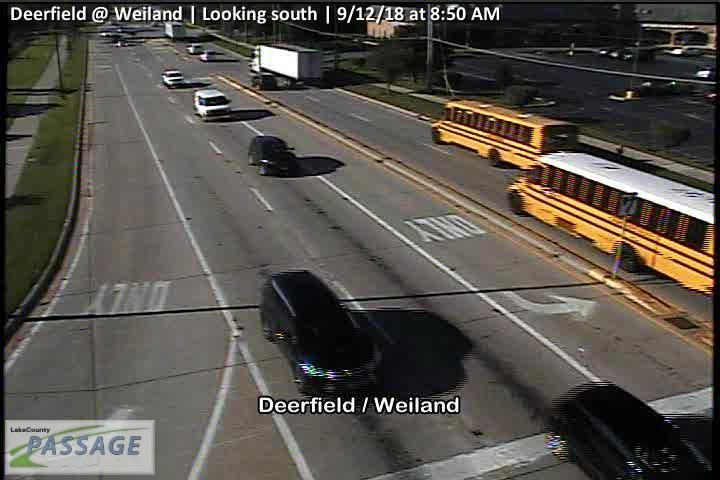Bus: (505, 151, 720, 299), (433, 96, 579, 172)
SUV: (546, 383, 714, 480), (262, 271, 384, 398), (248, 135, 298, 177), (194, 89, 234, 121), (162, 70, 184, 89), (199, 50, 216, 61), (185, 43, 202, 54)
Truck: (248, 43, 322, 88), (160, 21, 186, 41)
